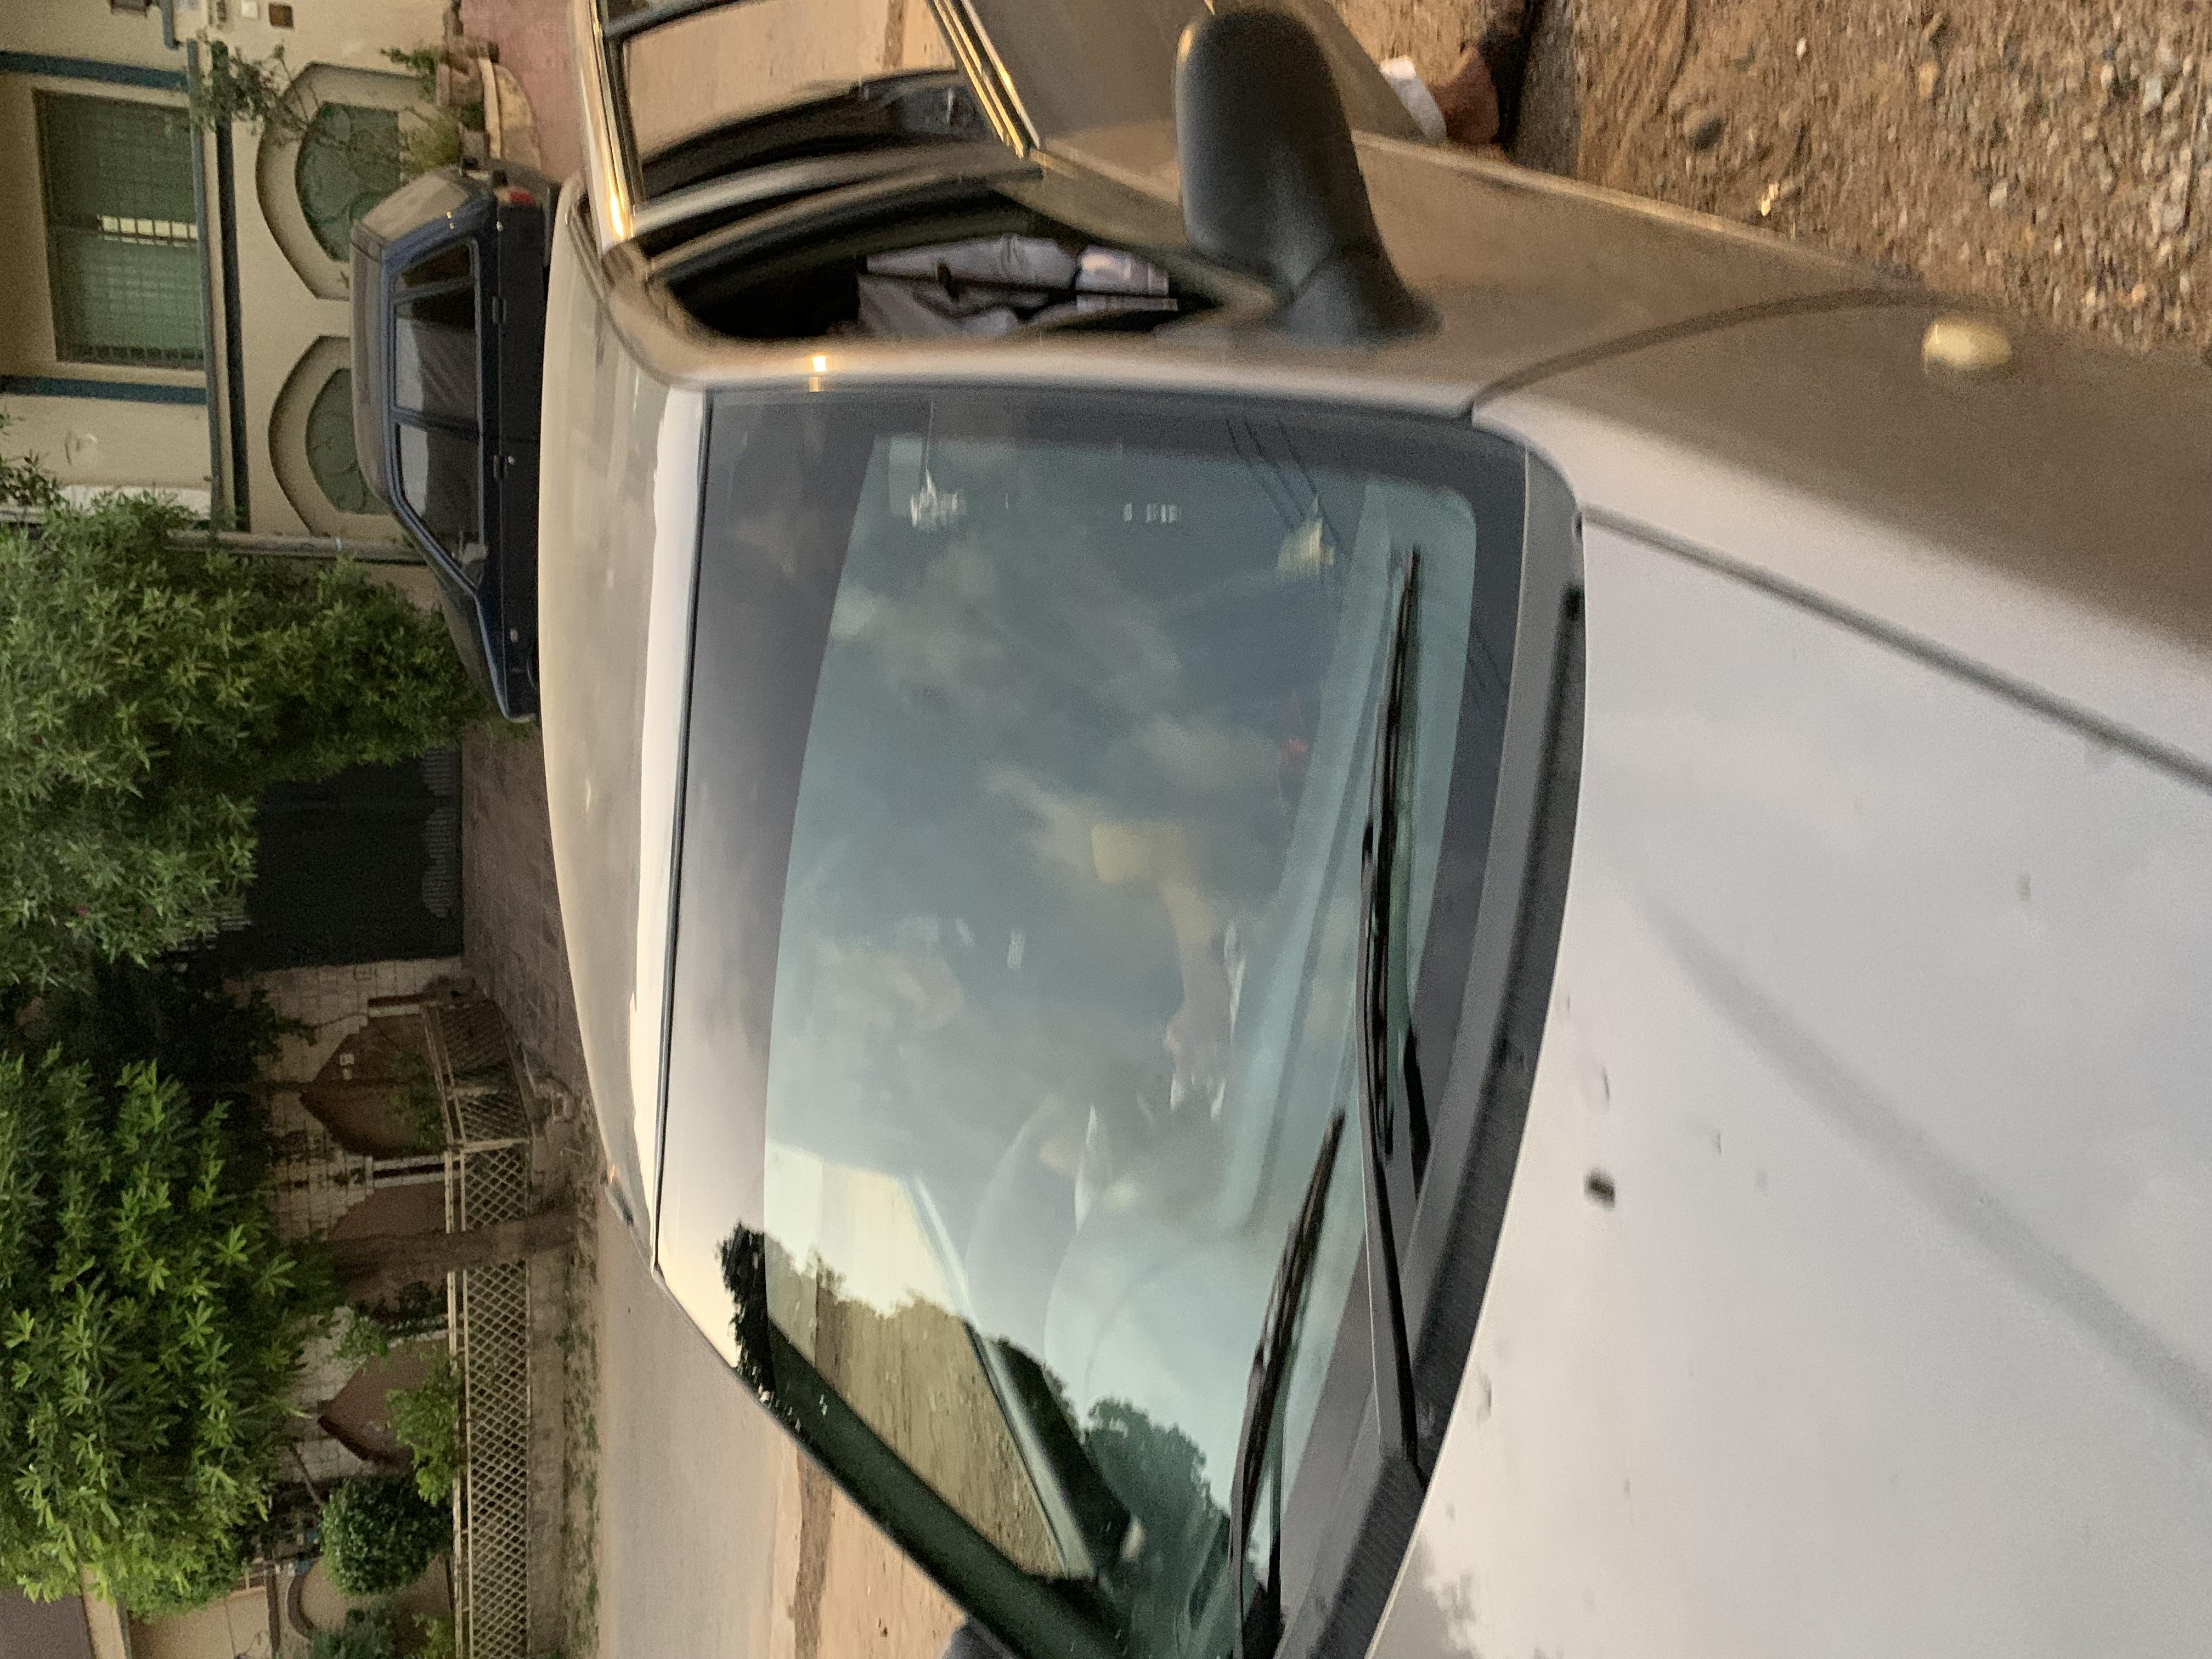windshield: (0, 469, 1705, 1246)
